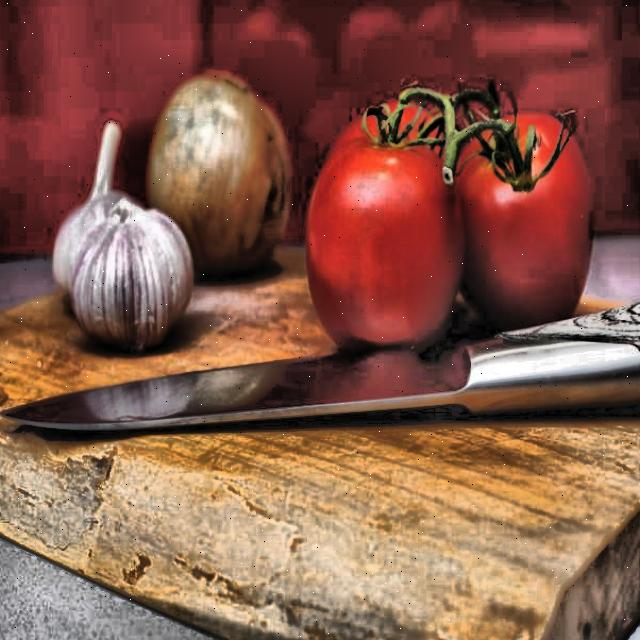knife: (0, 339, 640, 443)
